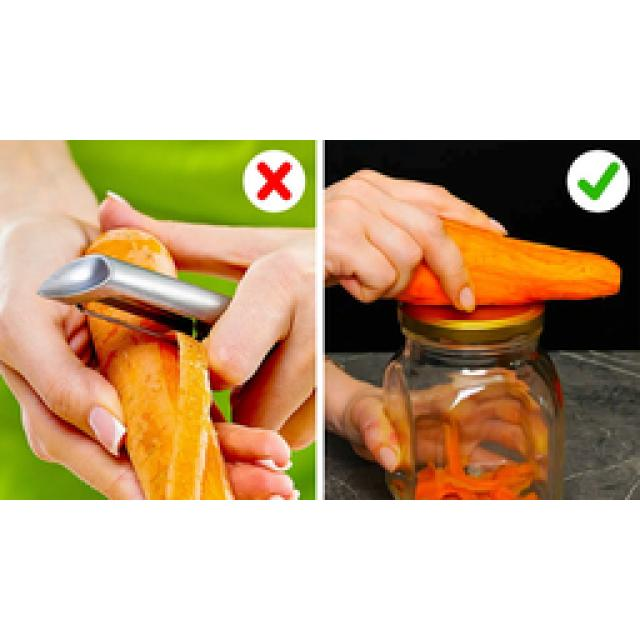food_waste: (88, 315, 230, 498), (442, 220, 618, 305), (82, 230, 175, 275), (398, 265, 448, 302), (280, 390, 312, 442)
